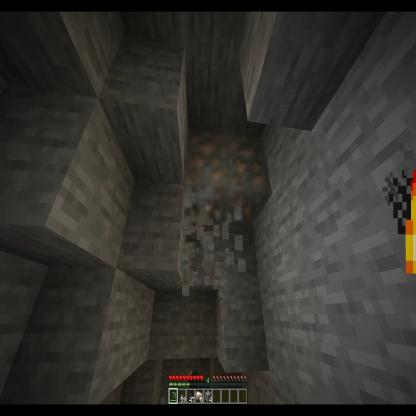iron ore: (222, 130, 268, 230), (184, 125, 228, 225)
